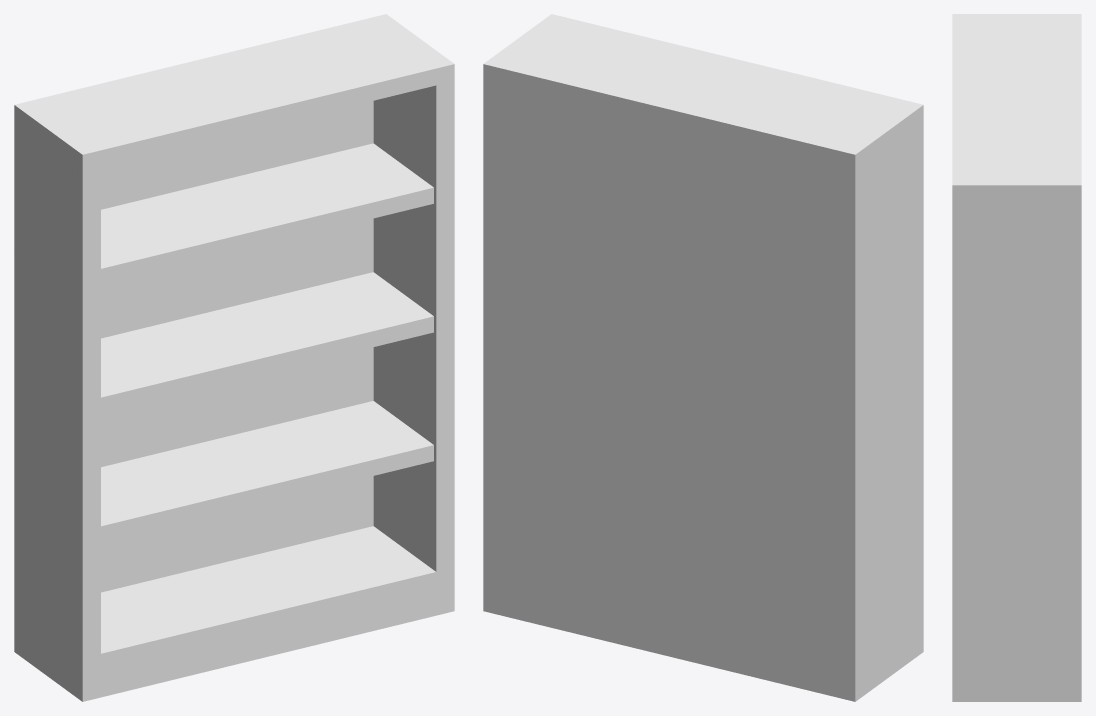
The model's file is Shelves_4A.fbx.
3 renders of one model, left to right at view 1: azimuth 30°, elevation 25°; view 2: azimuth 150°, elevation 25°; view 3: azimuth 270°, elevation 25°, orthographic. The views are drawn at different scales.
Visible parts, largest first — view 1: polySurface1500; view 2: polySurface1500; view 3: polySurface1500.
Boxes of the visible parts, x1,y1,x2,y2 form: polySurface1500: [14, 14, 454, 701]; polySurface1500: [483, 14, 923, 701]; polySurface1500: [952, 14, 1081, 701].
Bounding box in the file's own units: 2.42 × 3.4 × 0.7702.
Materials: 1 (1 with a texture image).
